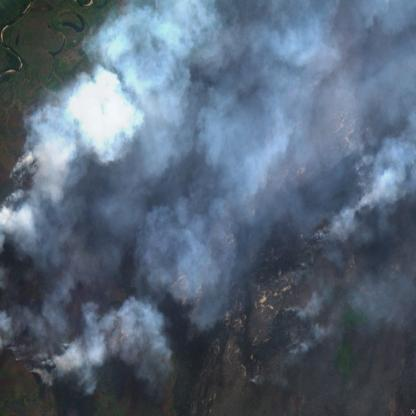fire: (242, 137, 378, 390), (0, 129, 118, 385)
